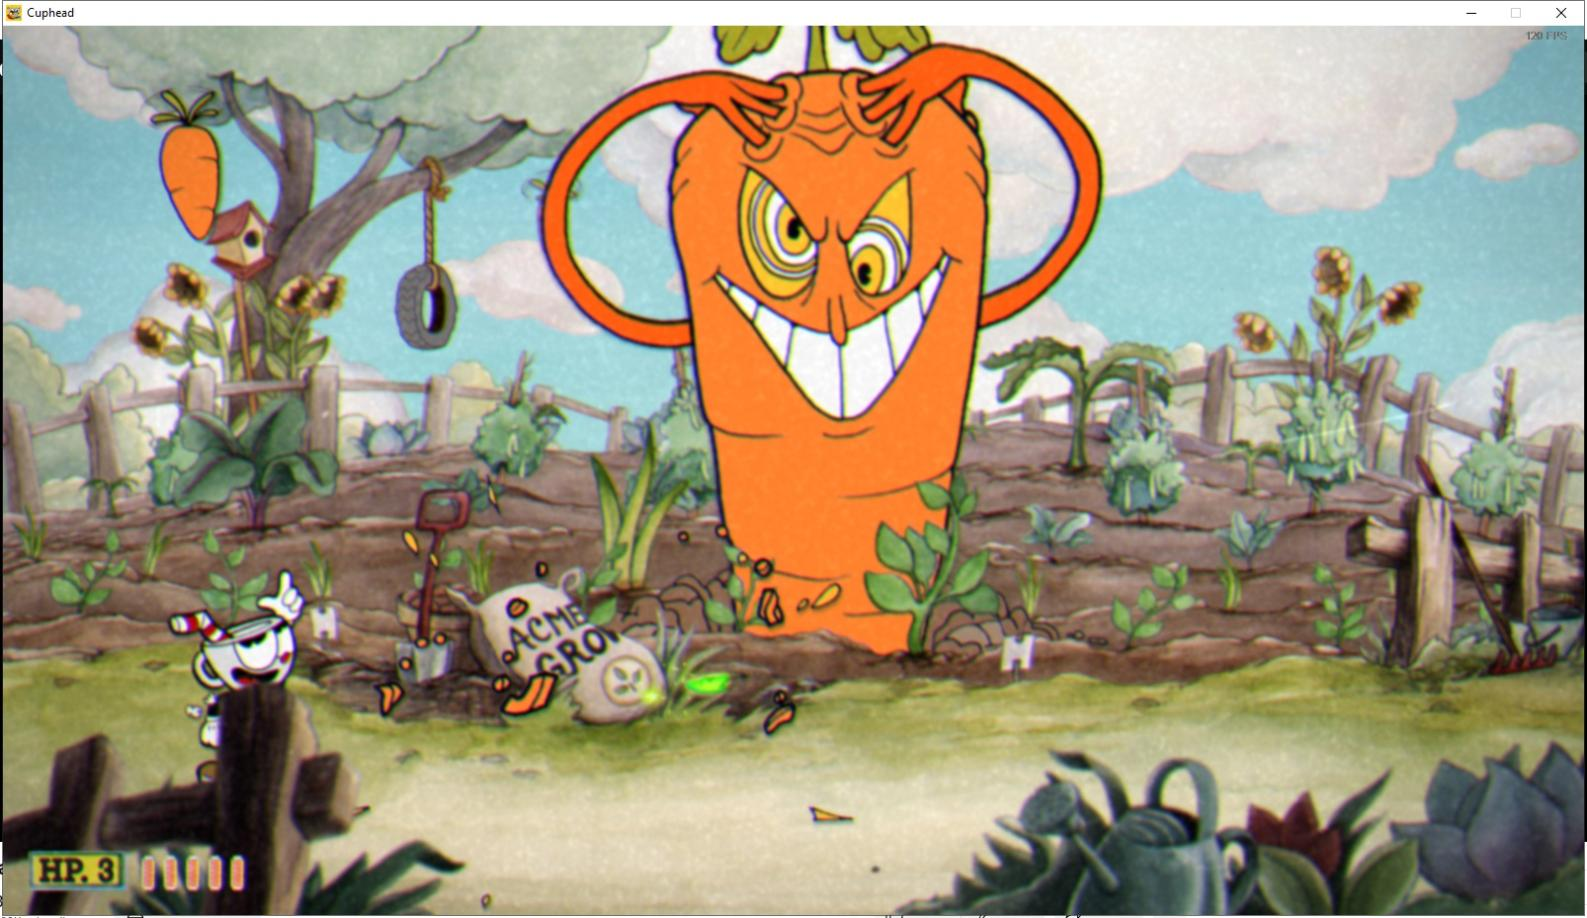carrot: (142, 82, 242, 247)
hp3: (93, 852, 123, 890)
player: (161, 562, 332, 795)
